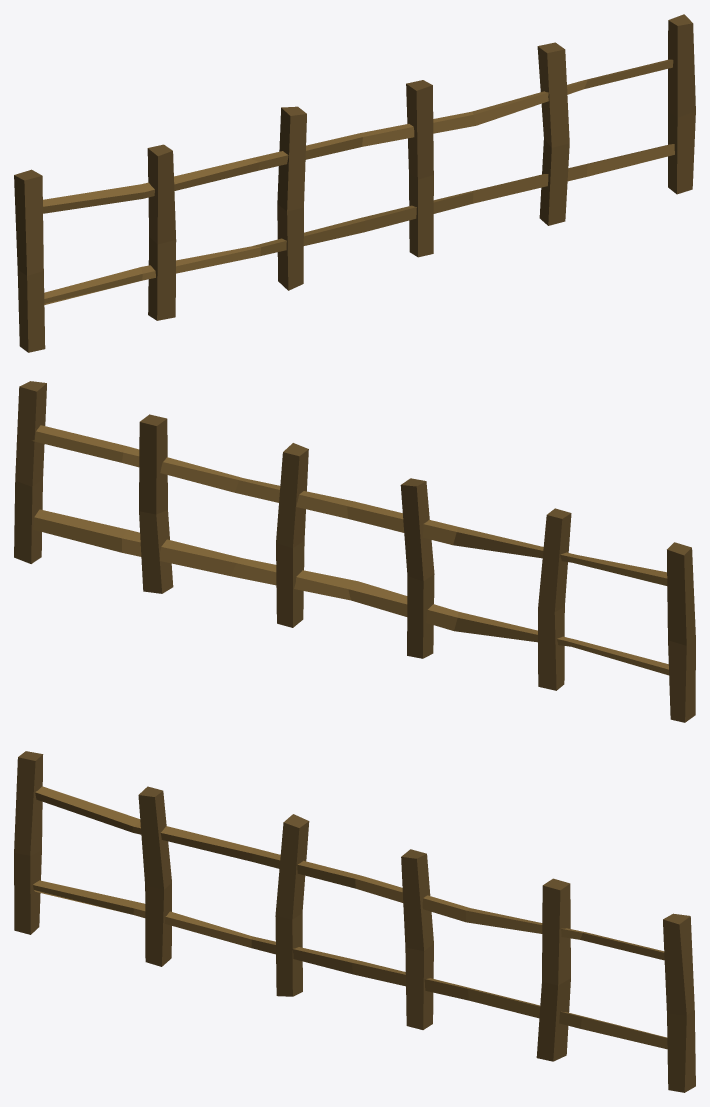
Rendered from wood fence2.fbx.
3 views of the same model, one above another, from view 1: azimuth 30°, elevation 25°; view 2: azimuth 150°, elevation 25°; view 3: azimuth 330°, elevation 25° (orthographic).
Parts seen in each view (by area): view 1: fence2_LOD0; view 2: fence2_LOD0; view 3: fence2_LOD0.
Part boxes in pixels (<box>): fence2_LOD0: <box>14,14,695,352</box>; fence2_LOD0: <box>14,381,695,722</box>; fence2_LOD0: <box>14,751,695,1092</box>.
Size of what is drawn, in the model's own units: 9.4 by 2.33 by 0.3975.
